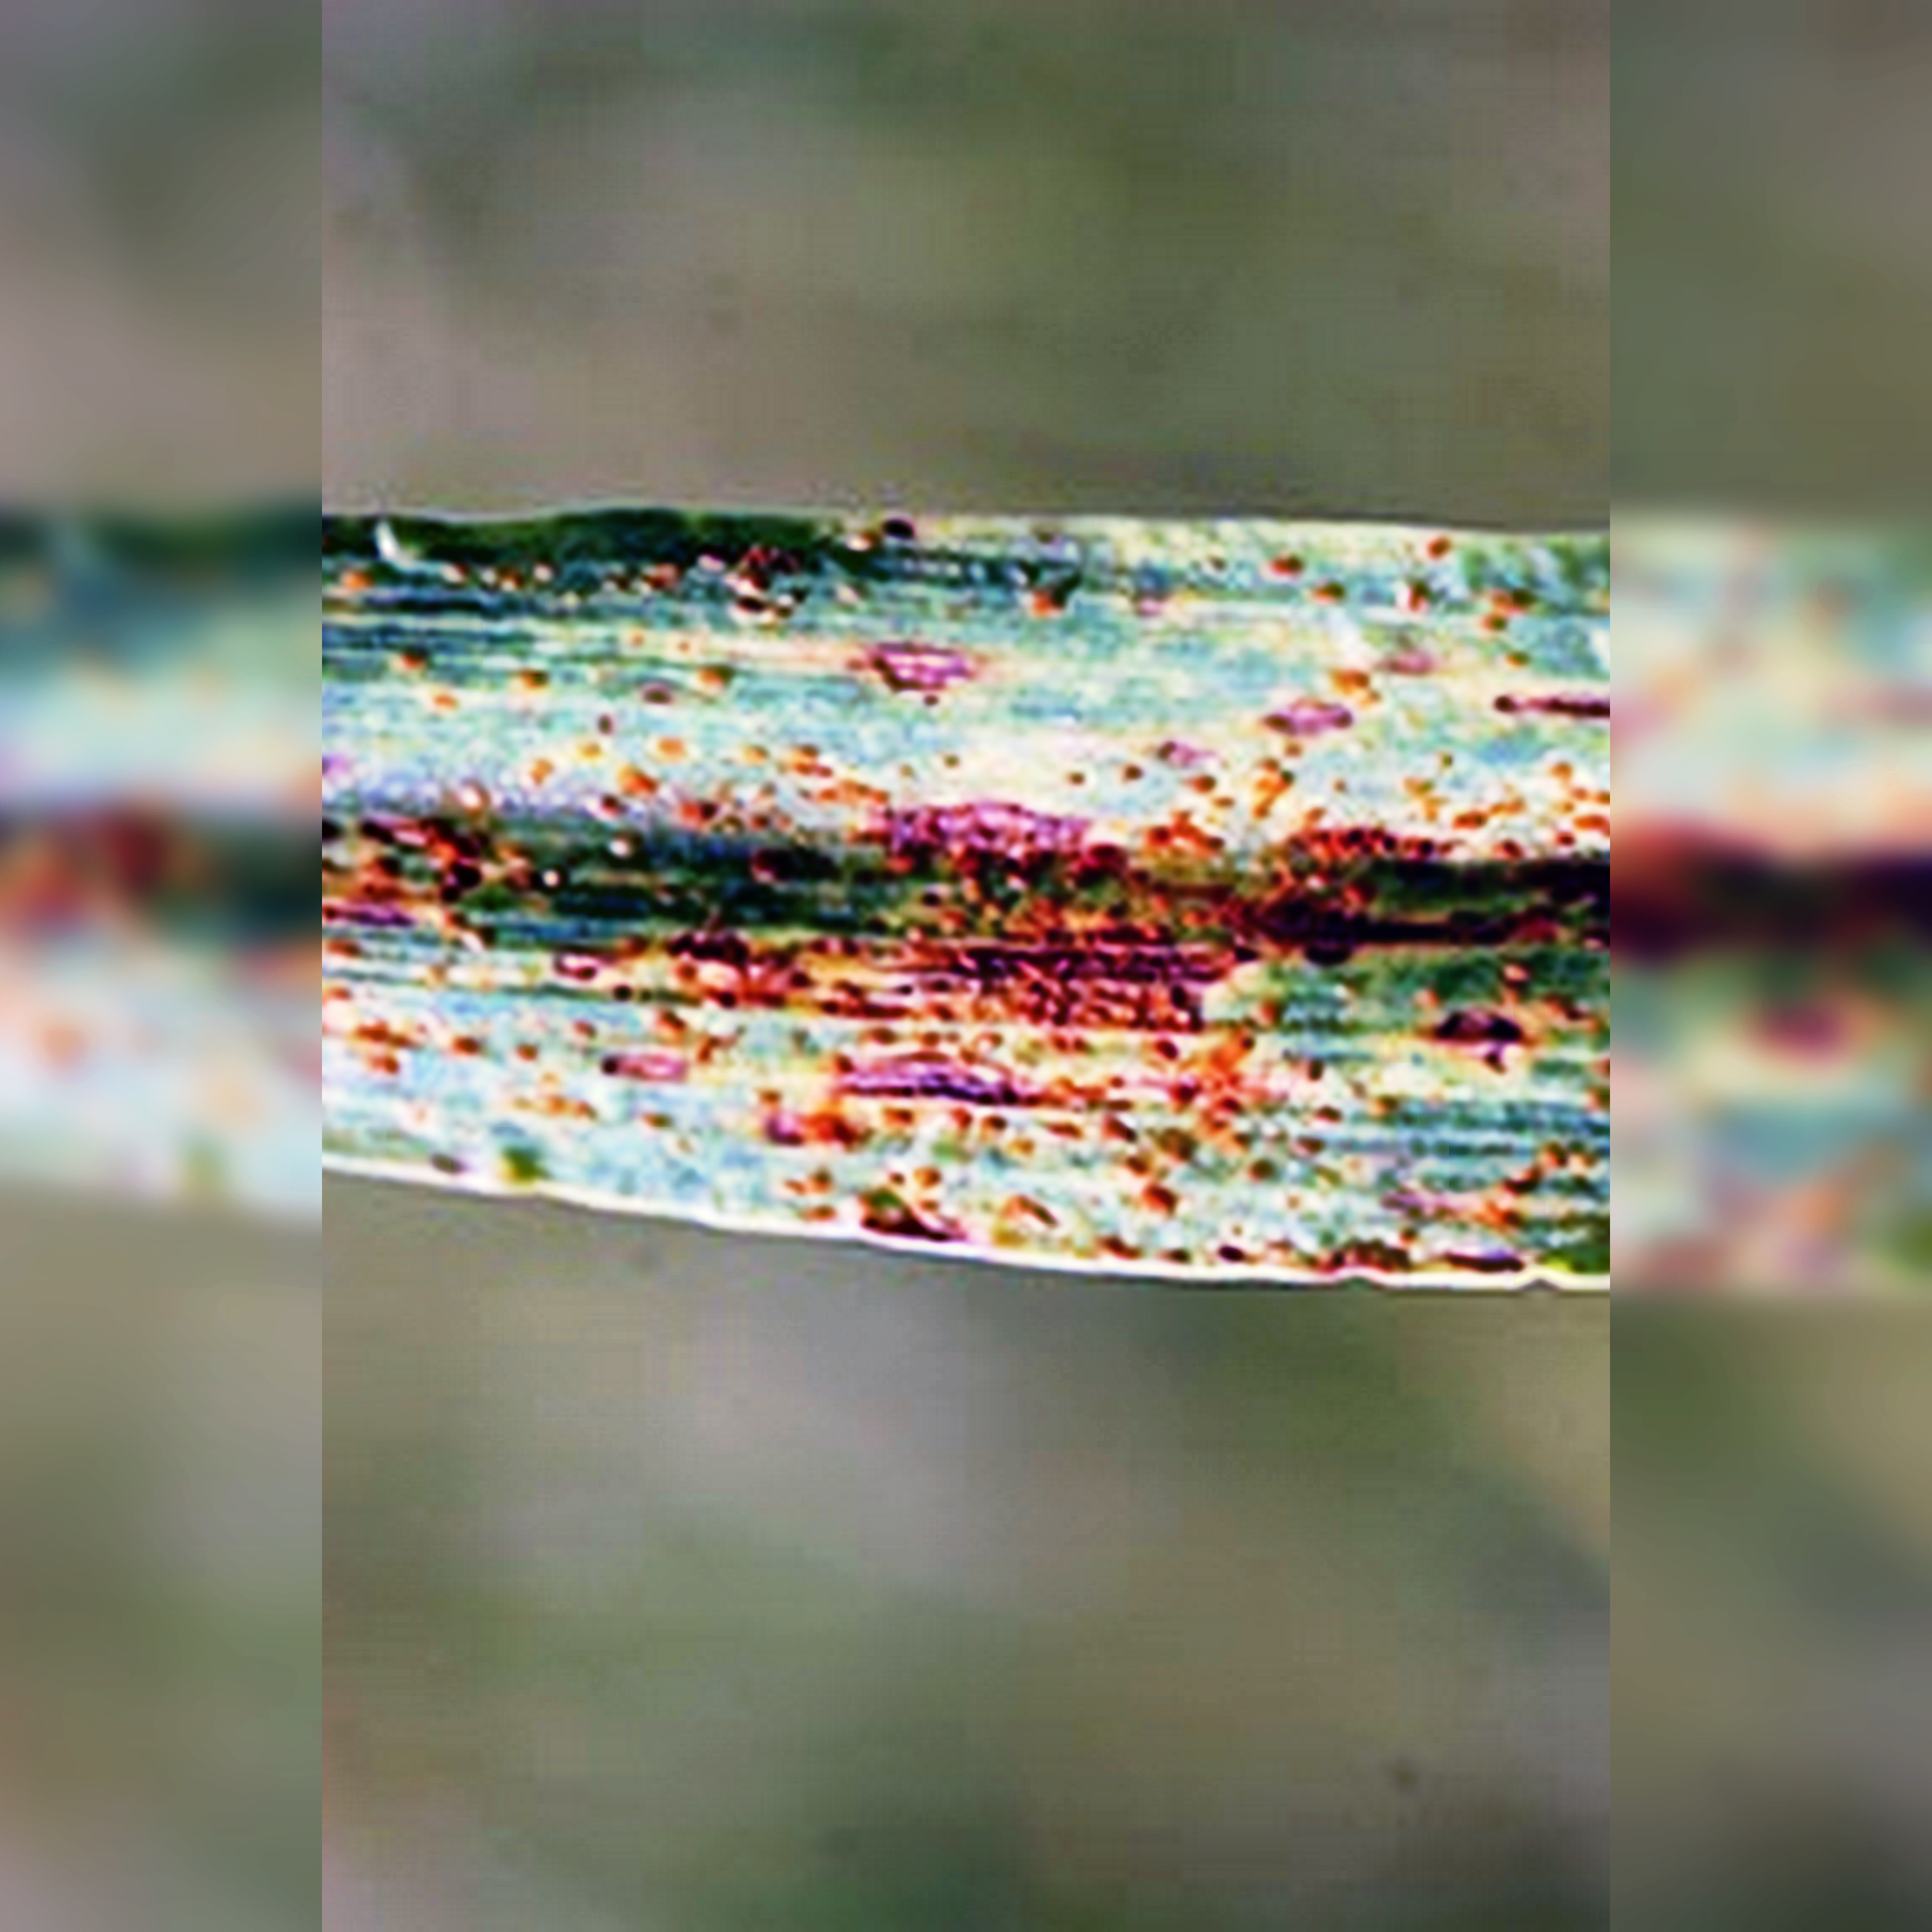Leaf Rust: (313, 547, 1591, 1300)
